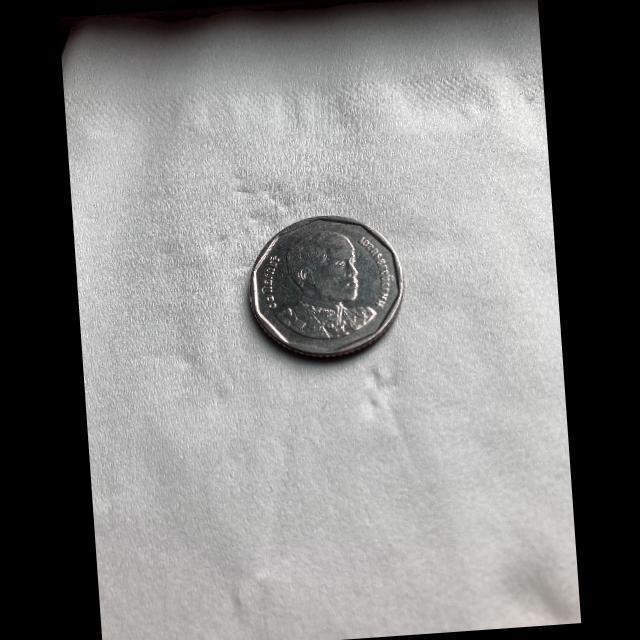5 Bath: (246, 214, 409, 369)
